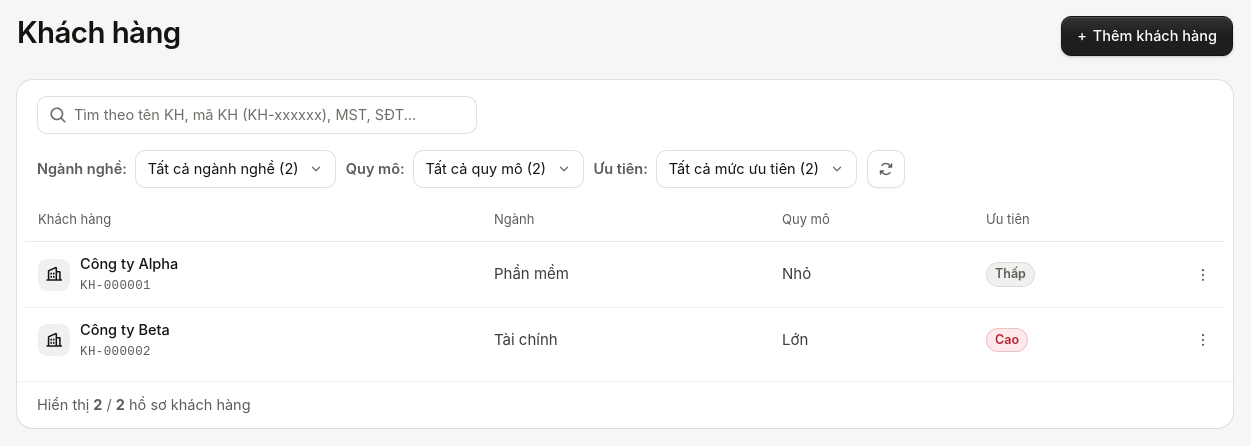
it: Phân nhóm khách hàng theo ngành và quy mô (NCL-02-CN-005) › NCL-02-CN-005-TC-01: Luồng thành công (Gán phân nhóm & lọc theo nhãn) › lọc danh sách khách hàng theo quy mô và mức độ ưu tiên đã gán
Check: the button "Công ty Alpha" is shown, box [80,253,178,275]
Check: the button "Công ty Beta" is shown, box [80,319,170,341]
Select "Lớn" in the dropdown labelled "Quy mô:" at (498, 169), box [413,150,584,188]
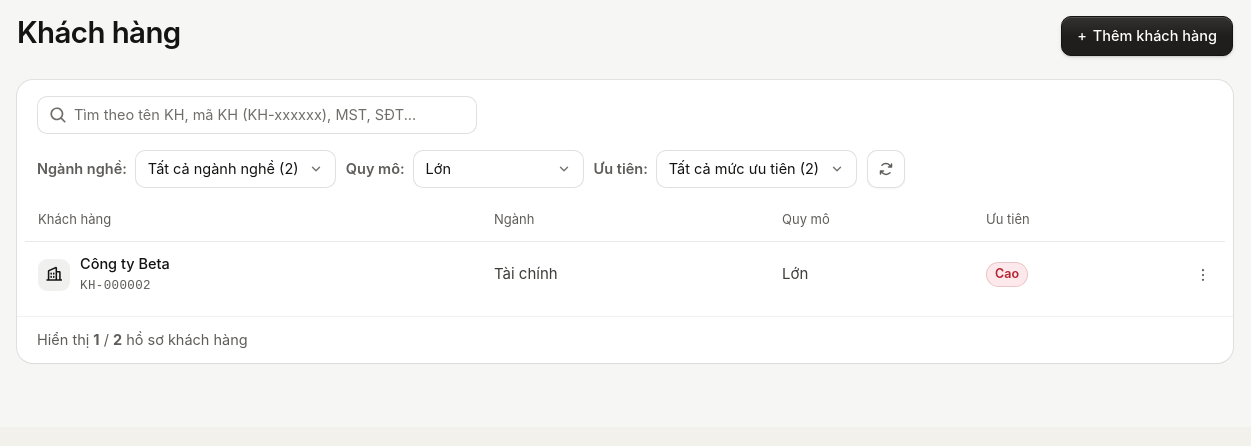
Check: the button "Công ty Beta" is shown, box [80,253,170,275]
Check: the button "Công ty Alpha" is gone
Select "Tất cả quy mô (2)" in the dropdown labelled "Quy mô:" at (498, 169), box [413,150,584,188]
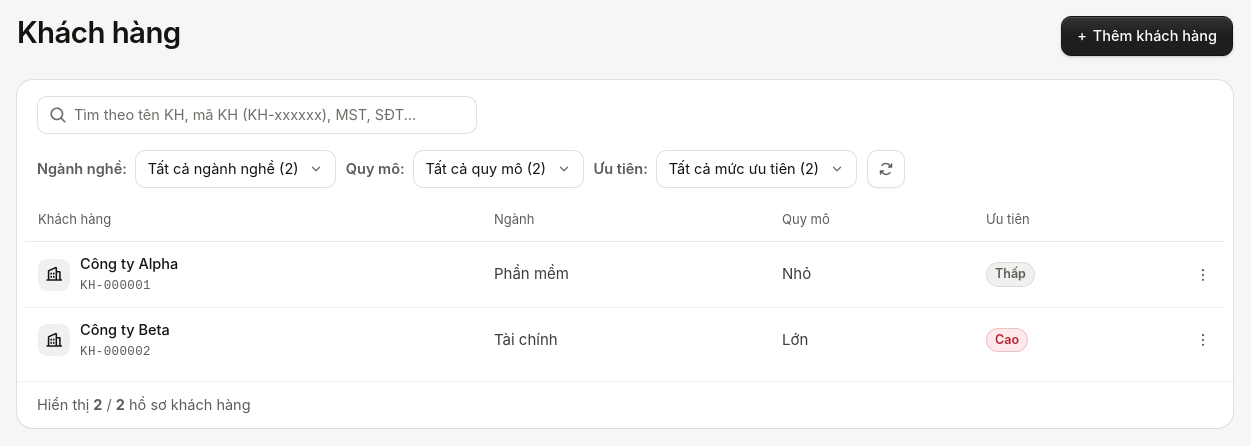
Select "Thấp" in the dropdown labelled "Ưu tiên:" at (756, 169), box [656,150,857,188]
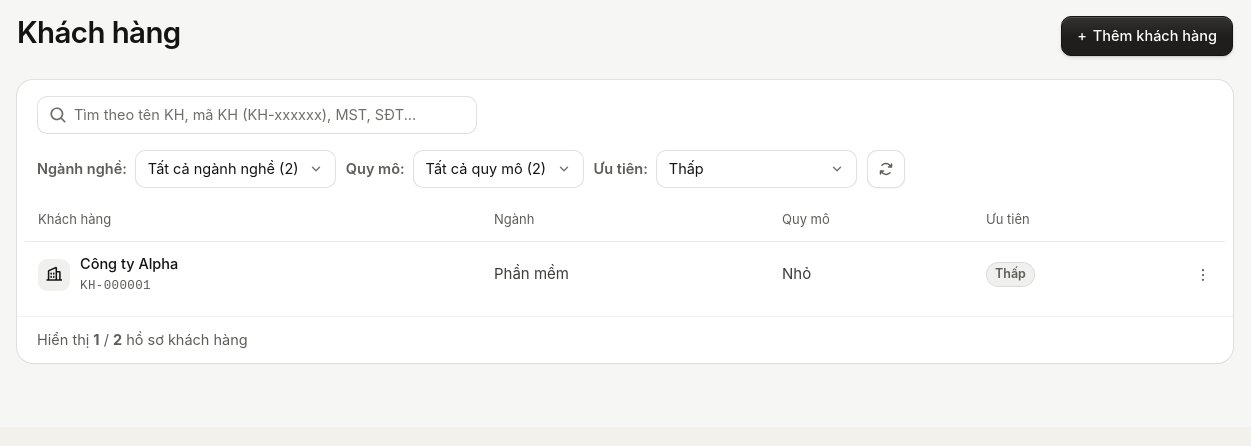
Check: the button "Công ty Alpha" is shown, box [80,253,178,275]
Check: the button "Công ty Beta" is gone
